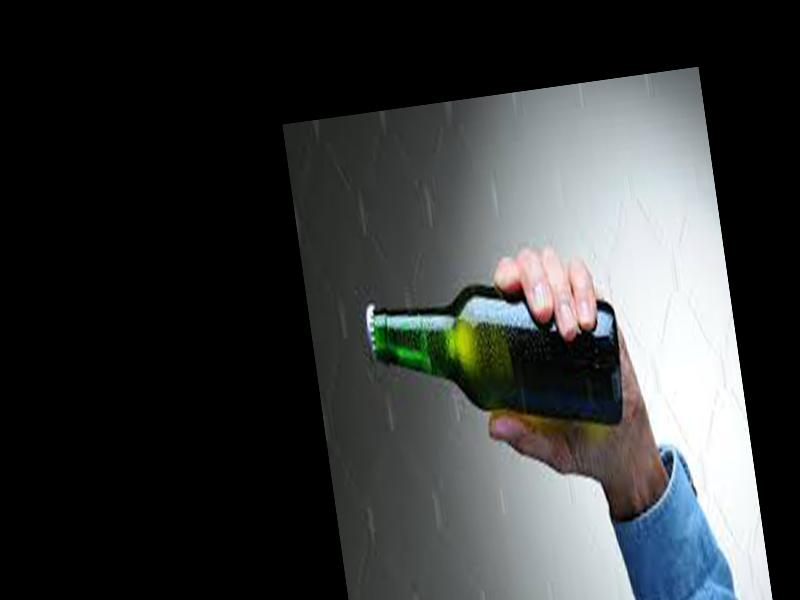Beer: (364, 259, 628, 459)
